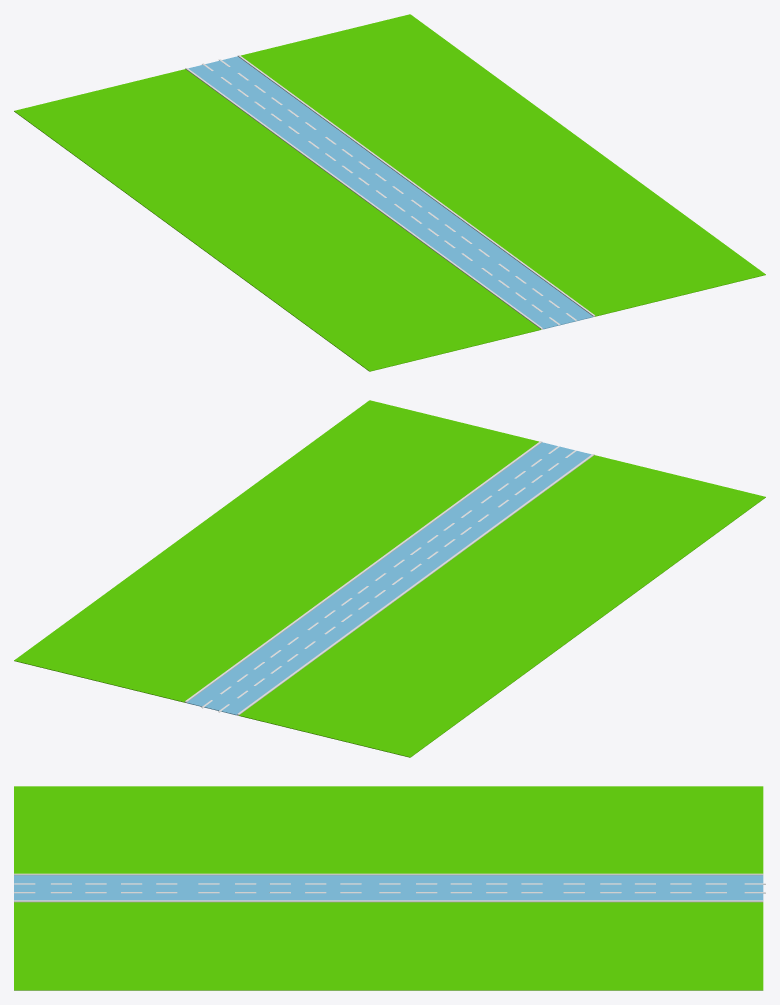
File: road_geo (2).fbx
3 renders of one model, top to bottom at view 1: azimuth 30°, elevation 25°; view 2: azimuth 150°, elevation 25°; view 3: azimuth 270°, elevation 25°, orthographic. The views are drawn at different scales.
Parts seen in each view (by area): view 1: road1, road; view 2: road1, road; view 3: road1, road.
Part boxes in pixels (x1,y1,x2,y2): road1: (14, 14, 765, 371); road: (185, 55, 595, 329); road1: (14, 400, 765, 757); road: (184, 441, 594, 715); road1: (14, 786, 763, 990); road: (14, 873, 765, 902).
Bounding box in the file's own units: 151 × 0.5491 × 236.
